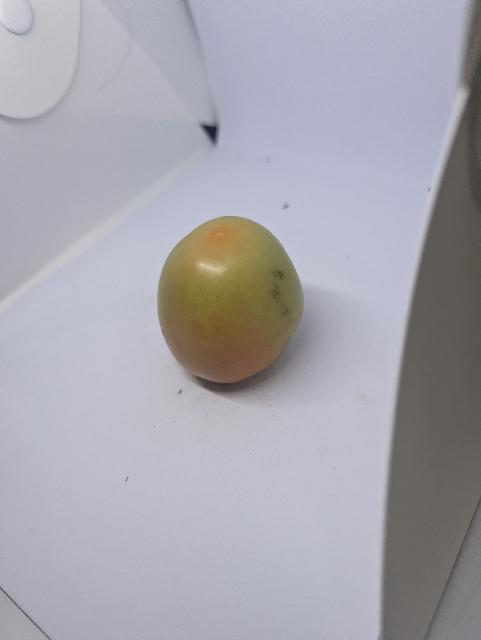breaker: (153, 216, 303, 389)
